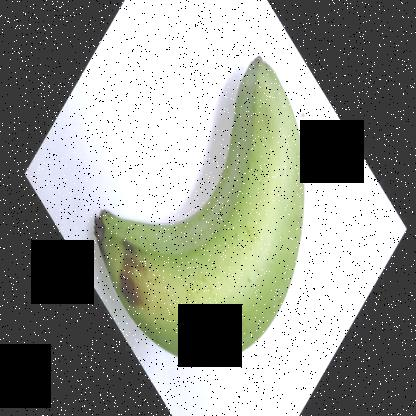freshunripe: (80, 43, 309, 376)
